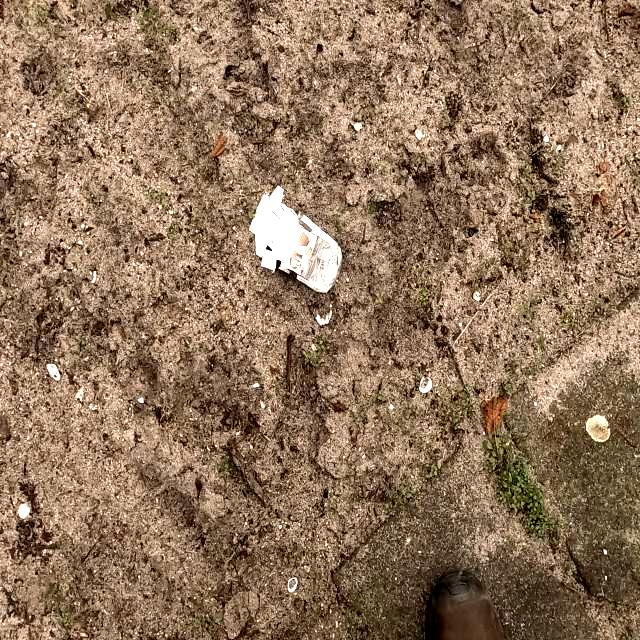Paper: (248, 182, 344, 300)
